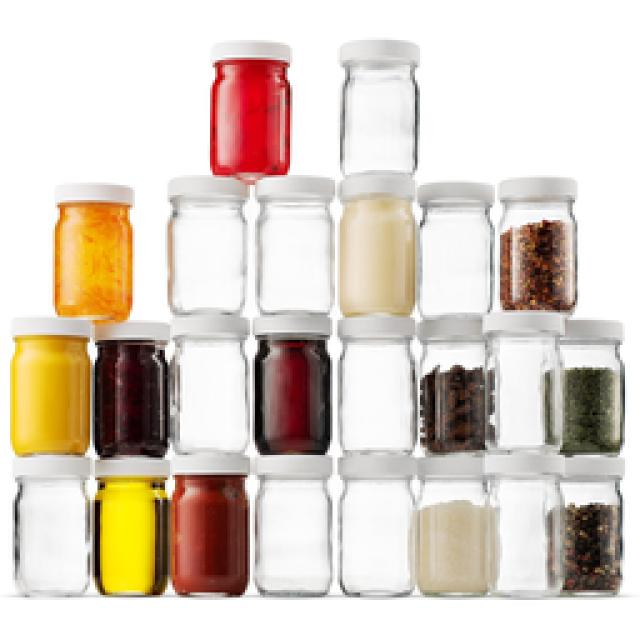glass: (487, 473, 566, 596), (12, 480, 91, 599), (337, 480, 416, 596), (339, 63, 420, 176), (170, 340, 251, 452), (254, 480, 332, 594), (489, 333, 564, 450), (417, 207, 494, 318), (338, 342, 417, 450), (168, 200, 245, 310), (260, 202, 330, 310)
